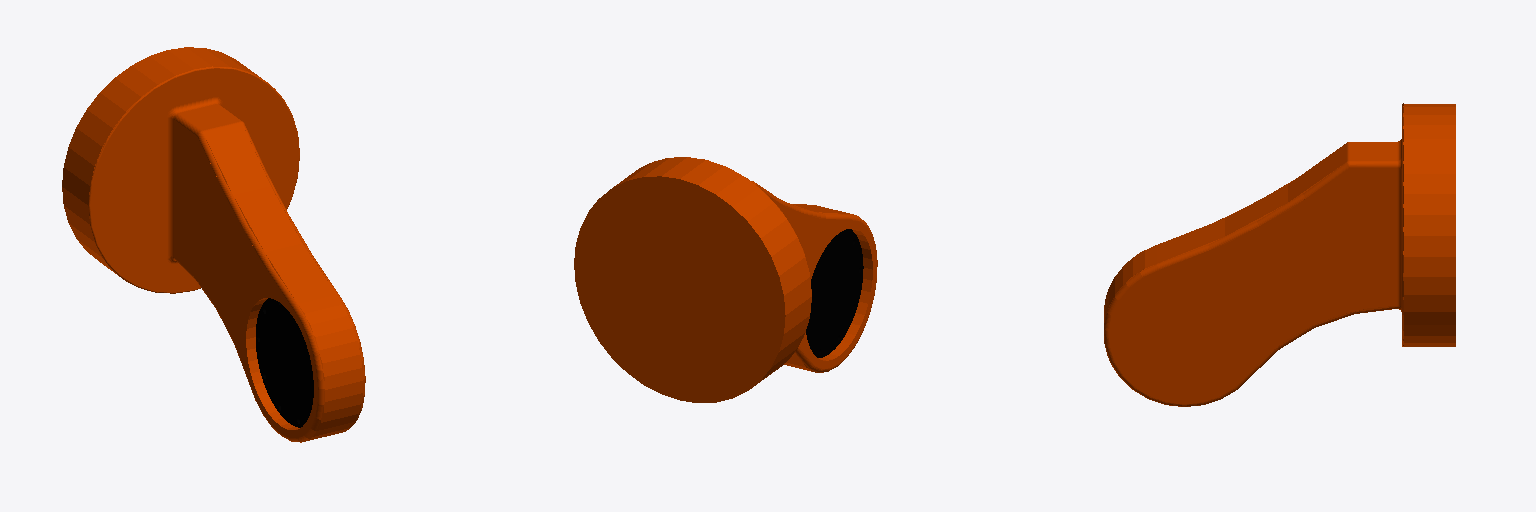
The model's file is arm_1.obj.
3 renders of one model, left to right at view 1: azimuth 30°, elevation 25°; view 2: azimuth 150°, elevation 25°; view 3: azimuth 270°, elevation 25°, orthographic.
Parts seen in each view (by area): view 1: arm_1.001; view 2: arm_1.001; view 3: arm_1.001.
Part boxes in pixels (left/top/right/bottom): arm_1.001: left=62, top=47, right=365, bottom=442; arm_1.001: left=574, top=157, right=877, bottom=402; arm_1.001: left=1104, top=103, right=1455, bottom=406.
Size of the model in its own units: 1081 by 1381 by 1561.